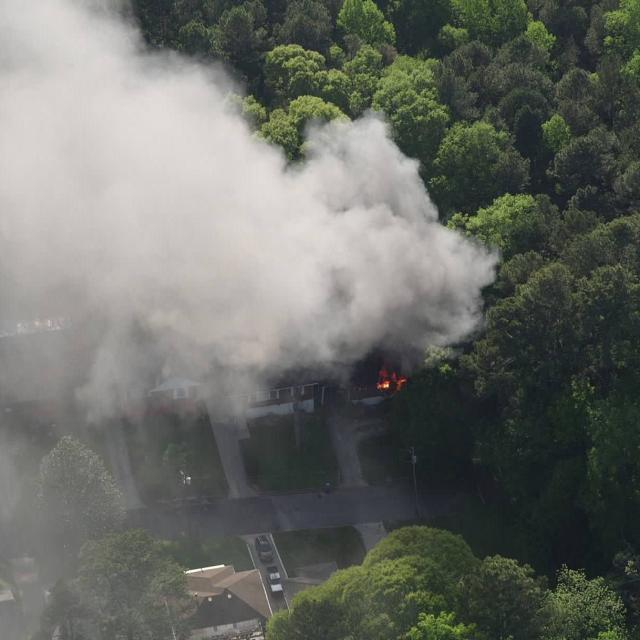Fire: (366, 368, 416, 400)
Smoke: (0, 83, 461, 377)
